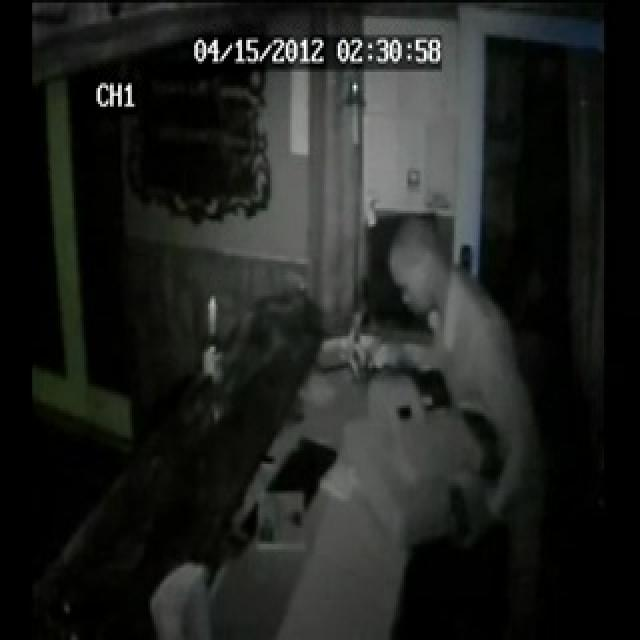thief: (342, 166, 476, 350)
